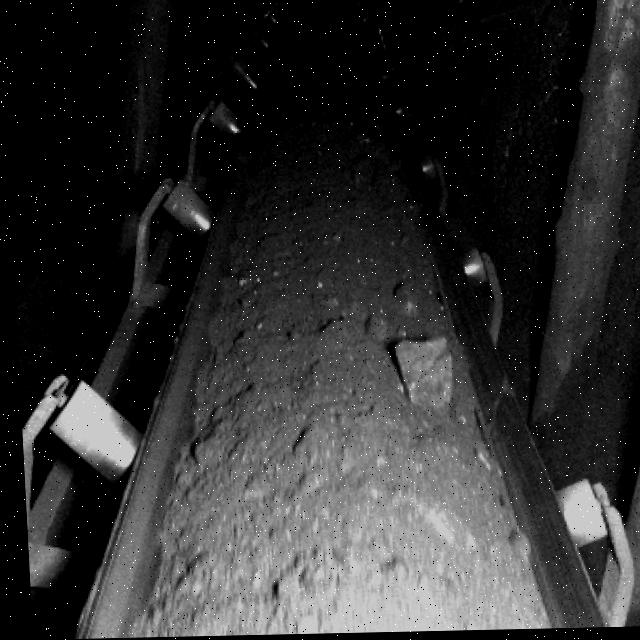large_sized_coal: (393, 340, 451, 415)
